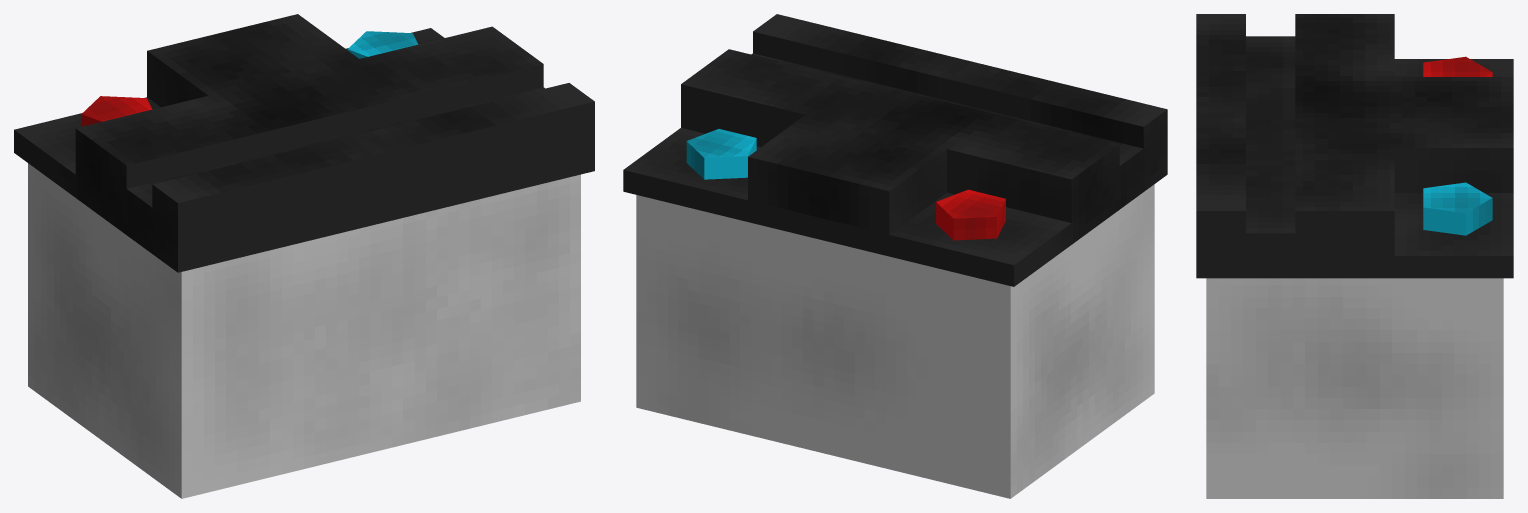
Rendered from BoatBatteryNew.gltf.
3 views of the same model, side by side, from view 1: azimuth 30°, elevation 25°; view 2: azimuth 150°, elevation 25°; view 3: azimuth 270°, elevation 25° (orthographic). The views are drawn at different scales.
Visible parts, largest first — view 1: Battery; view 2: Battery; view 3: Battery.
Part boxes in pixels (x1,y1,x2,y2): Battery: (14, 14, 594, 498); Battery: (623, 14, 1167, 498); Battery: (1196, 14, 1513, 498).
Size of the model in its own units: 1.17 by 0.8125 by 0.8.
Materials: 1 (1 with a texture image).
